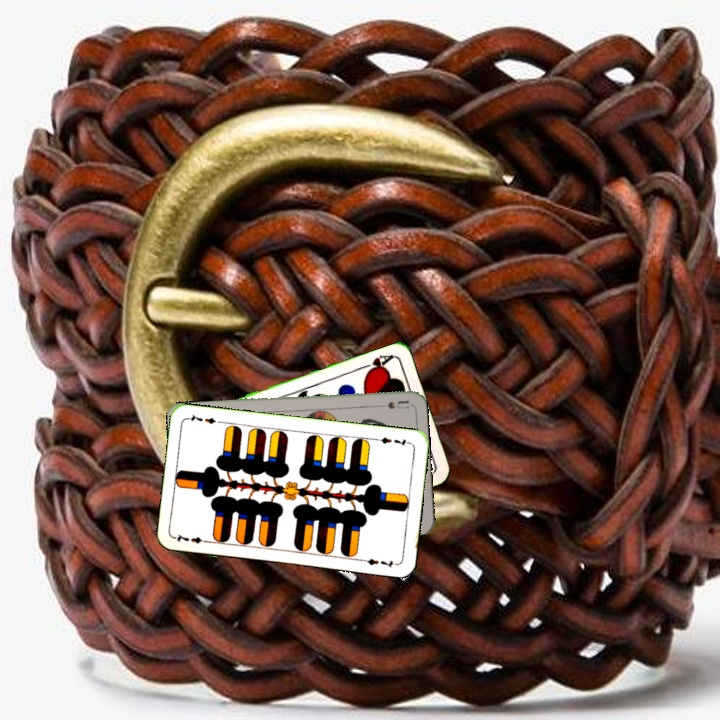E7: (372, 433, 413, 449), (171, 530, 212, 546)
HA: (356, 350, 396, 376)
SU: (370, 396, 411, 411)
